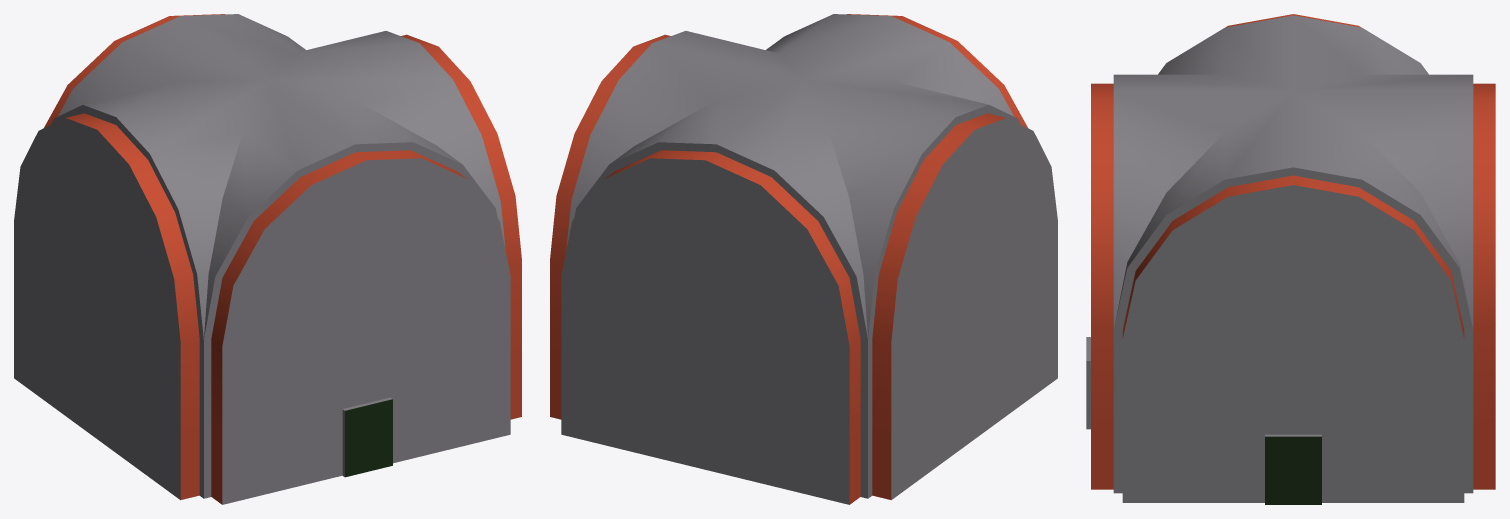
File: PicduMidi_Sala_sotano_2puertasB.fbx
3 renders of one model, left to right at view 1: azimuth 30°, elevation 25°; view 2: azimuth 150°, elevation 25°; view 3: azimuth 270°, elevation 25°, orthographic. The views are drawn at different scales.
Parts seen in each view (by area): view 1: sala_laberinto_2puertasB; view 2: sala_laberinto_2puertasB; view 3: sala_laberinto_2puertasB.
Part boxes in pixels (x1,y1,x2,y2): sala_laberinto_2puertasB: (14, 14, 521, 504); sala_laberinto_2puertasB: (550, 14, 1057, 504); sala_laberinto_2puertasB: (1086, 14, 1495, 504).
Size of the model in its own units: 1822 by 1600 by 1822.
